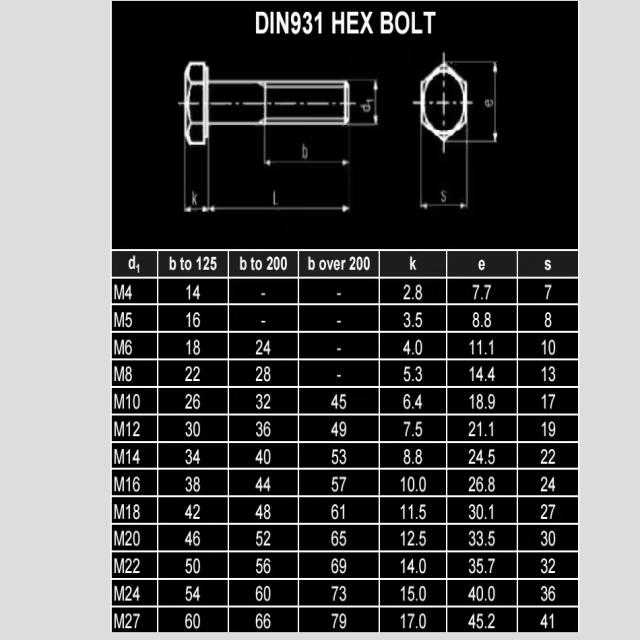marking_line: (181, 146, 353, 214), (263, 127, 355, 170), (418, 142, 469, 210), (468, 58, 498, 147), (181, 146, 212, 216), (350, 76, 379, 128)
numeric: (290, 11, 301, 36), (314, 9, 323, 36), (303, 10, 313, 34), (329, 527, 339, 548), (549, 556, 560, 575), (466, 419, 476, 439), (353, 254, 364, 272), (181, 367, 193, 383), (183, 475, 193, 494), (193, 501, 202, 522), (469, 311, 480, 328), (253, 392, 263, 410), (131, 393, 141, 411), (483, 281, 492, 301), (476, 474, 486, 492), (488, 556, 497, 576), (329, 476, 340, 492), (124, 583, 133, 602), (347, 253, 356, 272), (184, 613, 194, 630), (263, 584, 273, 601), (329, 447, 339, 464), (406, 584, 416, 601), (467, 476, 477, 493), (133, 583, 141, 604), (132, 556, 141, 574), (329, 585, 338, 603), (401, 339, 410, 357), (403, 393, 412, 411), (418, 530, 427, 548), (468, 392, 477, 410), (467, 556, 476, 574), (539, 557, 548, 575), (183, 394, 193, 410), (184, 558, 194, 574), (254, 366, 264, 382), (263, 501, 271, 521), (401, 312, 411, 328), (362, 255, 372, 271), (487, 367, 497, 383), (468, 531, 478, 547), (475, 584, 483, 604), (193, 448, 202, 465), (406, 530, 415, 547), (415, 338, 424, 355), (467, 340, 476, 357), (475, 449, 484, 466), (548, 366, 557, 383), (539, 504, 548, 521), (255, 419, 263, 438), (255, 529, 263, 548), (263, 529, 271, 548), (132, 420, 140, 439), (330, 611, 338, 630), (339, 584, 347, 603), (403, 419, 411, 438), (419, 502, 427, 521), (419, 475, 427, 494), (415, 363, 423, 382), (540, 337, 548, 356), (194, 557, 201, 578), (255, 338, 263, 356), (184, 421, 193, 437), (193, 613, 202, 629), (280, 255, 289, 271), (263, 394, 272, 410), (263, 421, 272, 437), (255, 503, 263, 521), (254, 614, 263, 630), (125, 338, 133, 356), (133, 612, 141, 630), (330, 505, 339, 521), (338, 421, 347, 437), (339, 474, 347, 492), (403, 364, 411, 382), (415, 393, 424, 409), (415, 285, 424, 301), (407, 557, 415, 575), (476, 530, 484, 548), (476, 558, 485, 574), (476, 612, 484, 630), (547, 337, 555, 355), (548, 530, 557, 546), (539, 476, 548, 492), (193, 308, 200, 328), (182, 505, 192, 519), (184, 532, 194, 546), (264, 363, 271, 383), (133, 475, 140, 495), (339, 446, 346, 466), (419, 584, 426, 604), (468, 445, 475, 465), (549, 419, 556, 439), (193, 365, 201, 382), (184, 448, 192, 465), (255, 476, 263, 493), (264, 476, 272, 493), (339, 612, 347, 629), (339, 557, 347, 574), (403, 284, 411, 301), (415, 420, 423, 437), (471, 284, 479, 301), (488, 475, 496, 492), (488, 585, 496, 602), (544, 283, 552, 300), (549, 393, 557, 410), (193, 337, 200, 356), (193, 529, 200, 548), (255, 583, 262, 602), (264, 611, 271, 630), (125, 447, 132, 466), (133, 447, 140, 466), (125, 528, 132, 547), (125, 557, 132, 576), (125, 610, 132, 629), (340, 393, 347, 412), (468, 364, 475, 383), (468, 611, 475, 630), (544, 310, 551, 329), (210, 255, 218, 271), (193, 421, 201, 437), (185, 586, 193, 602), (125, 366, 133, 382), (133, 530, 141, 546), (331, 394, 339, 410), (331, 559, 339, 575), (403, 449, 411, 465), (408, 476, 416, 492), (415, 311, 423, 327), (399, 558, 407, 574), (407, 612, 415, 628), (418, 612, 426, 628), (487, 530, 495, 546), (548, 586, 556, 602), (193, 282, 200, 300), (125, 393, 132, 411), (125, 475, 132, 493), (133, 502, 140, 520), (399, 502, 406, 520), (399, 611, 406, 629), (476, 502, 483, 520), (488, 612, 495, 630), (468, 585, 475, 603), (541, 529, 548, 547), (548, 447, 555, 465), (548, 474, 555, 492), (194, 474, 200, 494), (266, 257, 274, 272), (475, 366, 483, 381), (487, 394, 495, 409), (264, 338, 271, 355), (203, 254, 210, 271), (193, 392, 200, 409), (256, 558, 263, 575), (331, 422, 338, 439), (420, 557, 427, 574), (485, 311, 492, 328), (477, 393, 484, 410), (488, 448, 495, 465), (540, 585, 547, 602), (540, 365, 547, 382), (549, 502, 556, 519), (195, 255, 202, 271), (193, 586, 200, 602), (255, 450, 263, 464), (264, 449, 271, 465), (408, 504, 415, 520), (399, 586, 406, 602), (468, 504, 475, 520), (540, 450, 547, 466), (489, 502, 495, 520), (541, 613, 547, 631), (541, 392, 547, 410), (185, 340, 192, 355), (339, 531, 346, 546), (415, 449, 422, 464), (488, 421, 495, 436), (549, 614, 556, 629), (541, 422, 548, 437), (186, 284, 192, 301), (264, 556, 270, 573), (126, 311, 132, 328), (400, 476, 406, 493), (489, 339, 495, 356), (477, 421, 483, 438), (340, 502, 345, 521), (478, 337, 483, 356), (186, 312, 192, 327), (126, 503, 131, 520), (273, 257, 279, 271), (126, 422, 131, 438), (364, 97, 375, 104), (402, 530, 406, 546), (136, 264, 139, 274)
